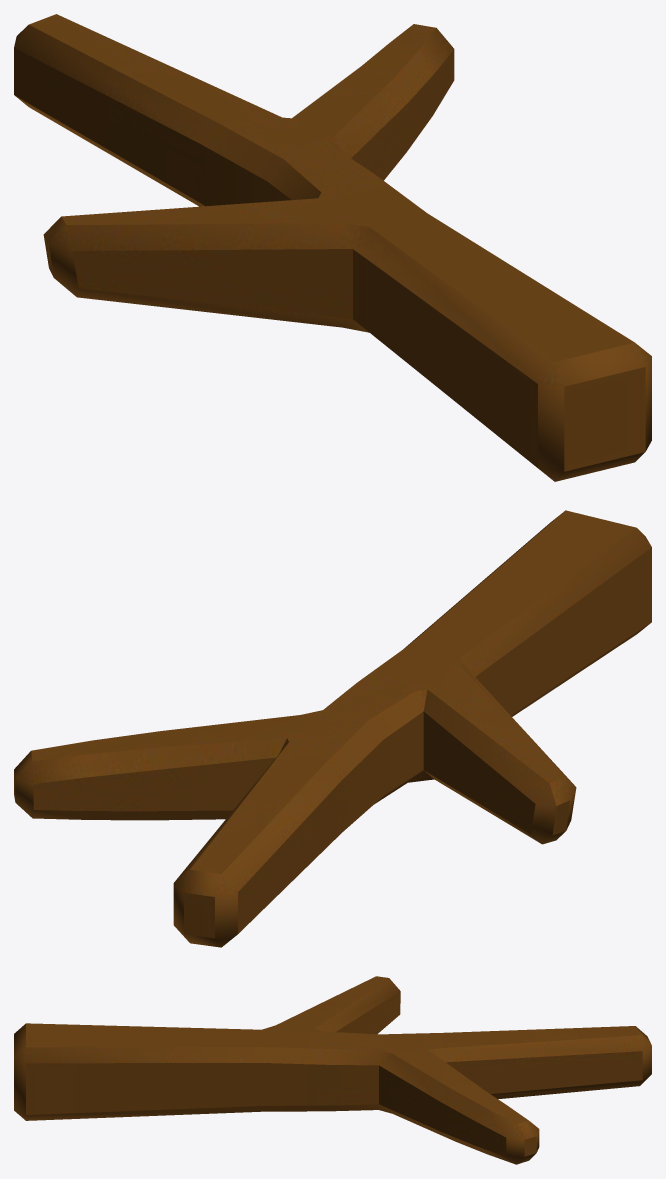
The model's file is branch.fbx.
3 views of the same model, one above another, from view 1: azimuth 30°, elevation 25°; view 2: azimuth 150°, elevation 25°; view 3: azimuth 270°, elevation 25° (orthographic). The views are drawn at different scales.
Parts seen in each view (by area): view 1: branch_1; view 2: branch_1; view 3: branch_1.
Boxes of the visible parts, x1=… form: branch_1: x1=14, y1=14, x2=651, y2=481; branch_1: x1=14, y1=510, x2=651, y2=947; branch_1: x1=14, y1=976, x2=651, y2=1164.
Size of the model in its own units: 197 by 44.23 by 348.
1 material, 1 textured.
